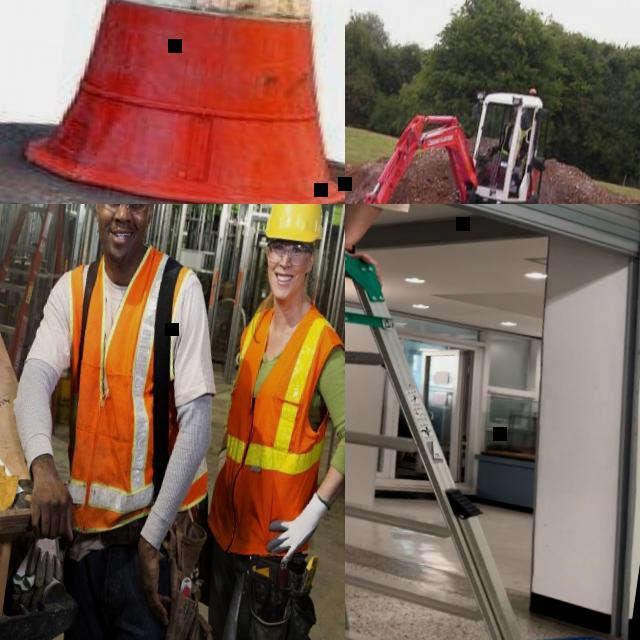Hardhat: (263, 204, 329, 247), (512, 105, 526, 116)
NO-Mask: (96, 219, 144, 265), (265, 264, 302, 302)
Person: (0, 204, 253, 640), (182, 204, 345, 640), (345, 204, 526, 429), (482, 102, 532, 186)
Safety Cone: (0, 0, 345, 204)
Safety Vest: (29, 234, 243, 553), (199, 294, 345, 565), (501, 120, 529, 160)
vehicle: (345, 65, 561, 204)
